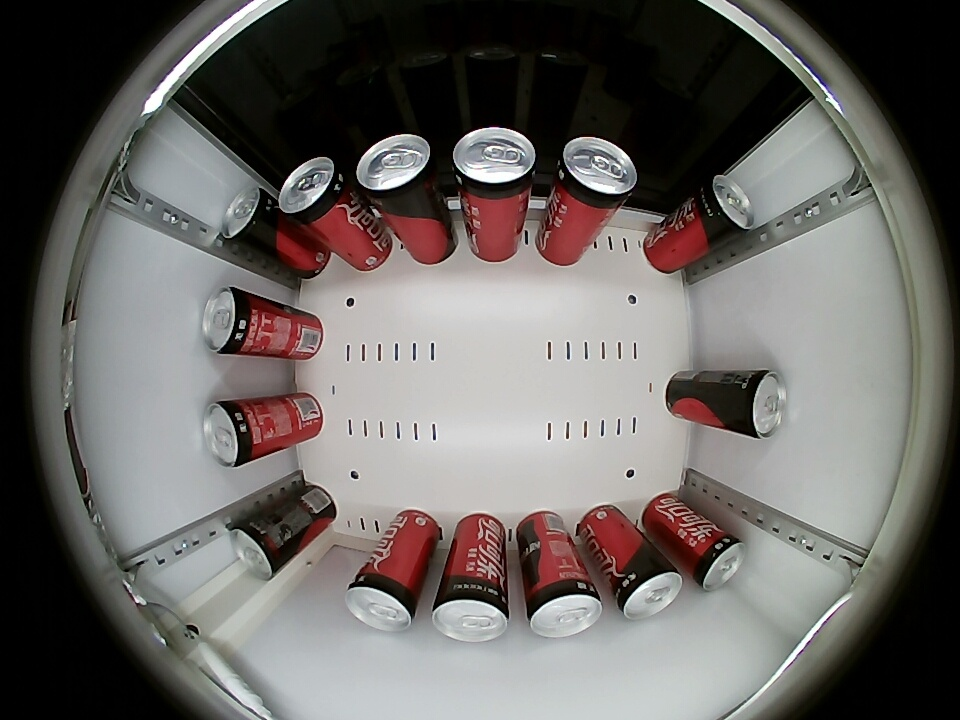lingdukele: (451, 127, 537, 205), (554, 137, 638, 212), (356, 134, 438, 207), (431, 576, 510, 642), (523, 574, 604, 638), (278, 158, 351, 226), (345, 569, 423, 631), (612, 557, 683, 619), (725, 370, 787, 439), (203, 398, 263, 467), (202, 287, 262, 356), (693, 174, 754, 240), (686, 527, 747, 591), (228, 516, 289, 579), (220, 187, 276, 251)
